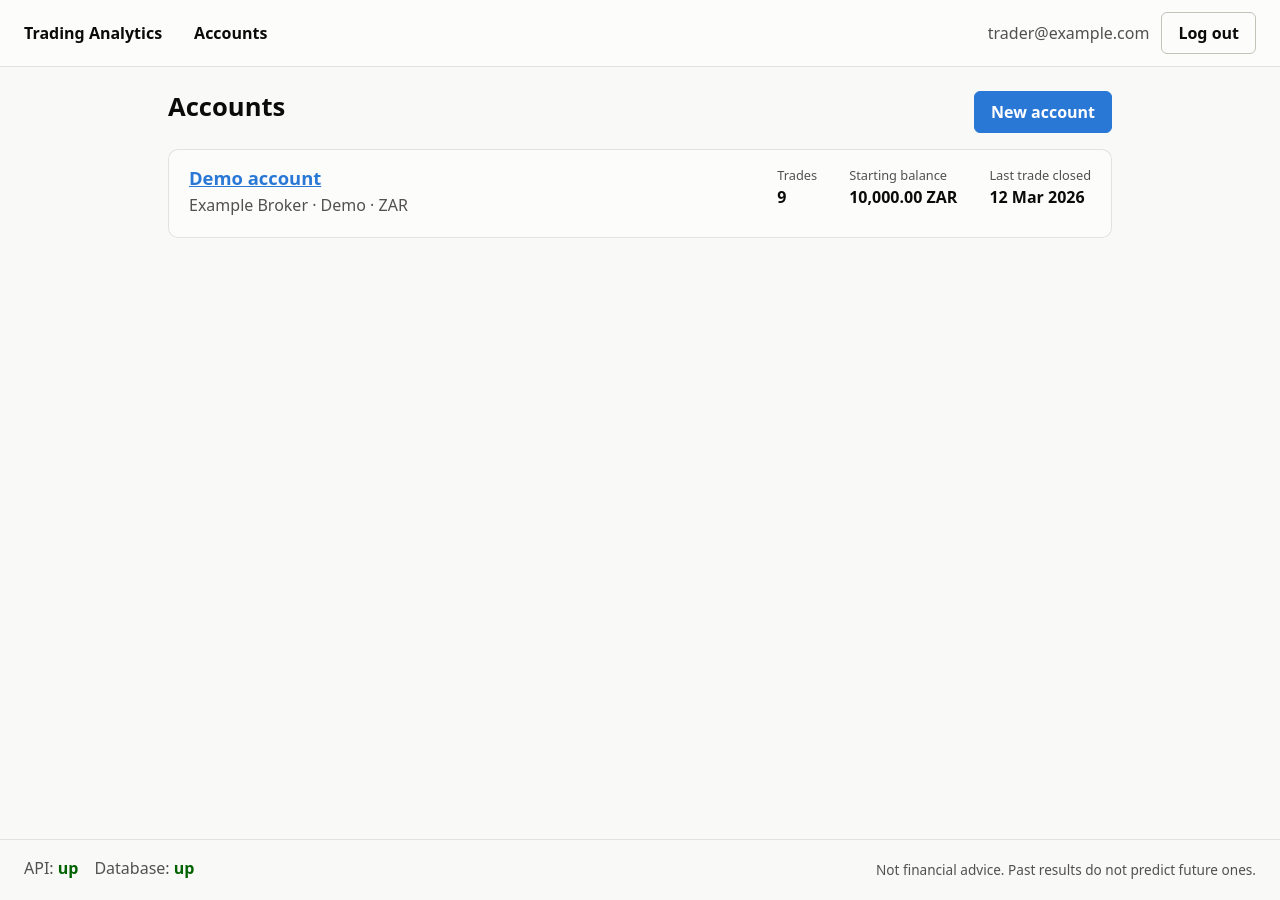
Test case: accounts › shows what the API objects to, and keeps what was typed
This screenshot has width=1280, height=900.
Click the button "New account" at (1043, 112), box [974,91,1112,133]
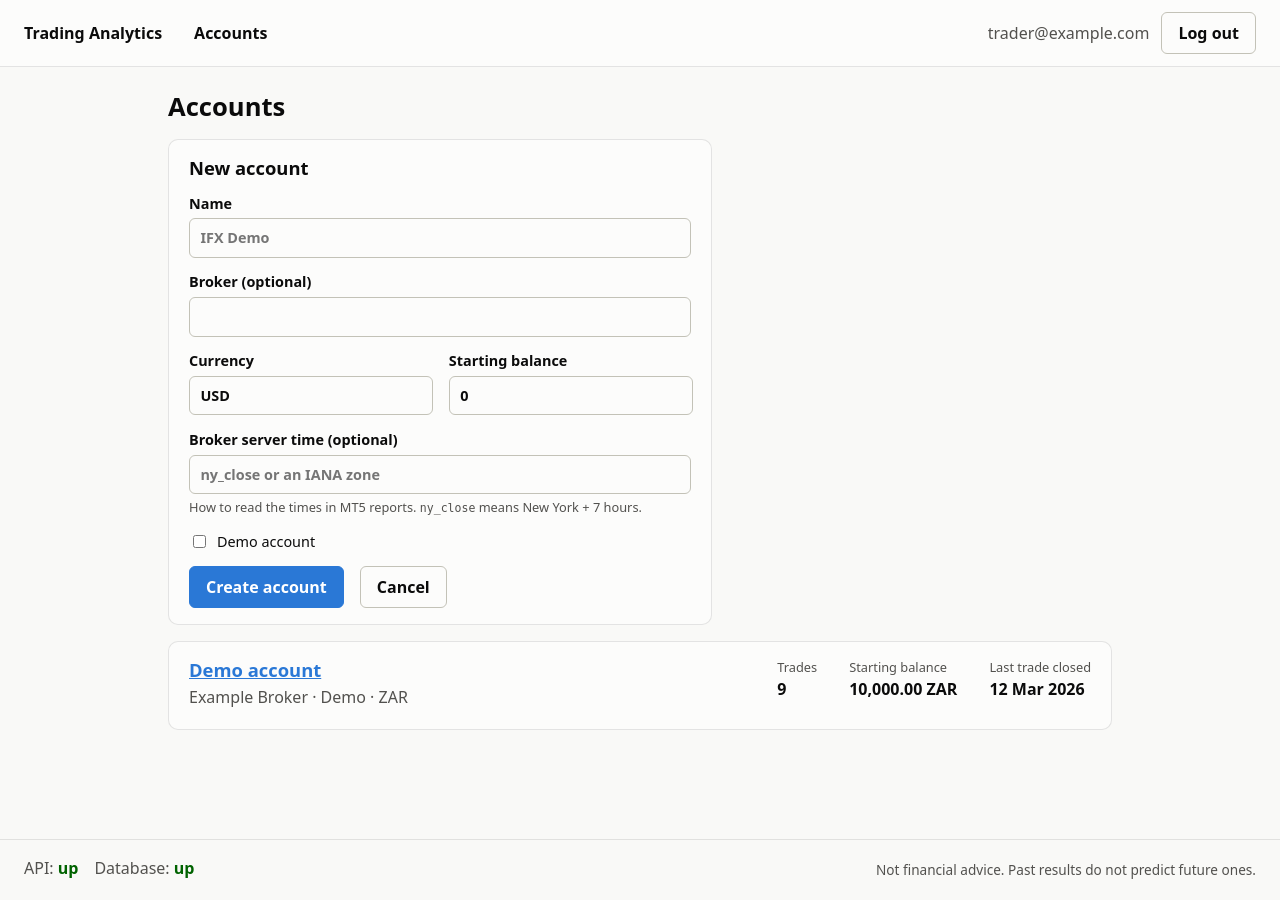
Type "Demo account" into the field labelled "Name" at (440, 238), box [189,218,691,258]
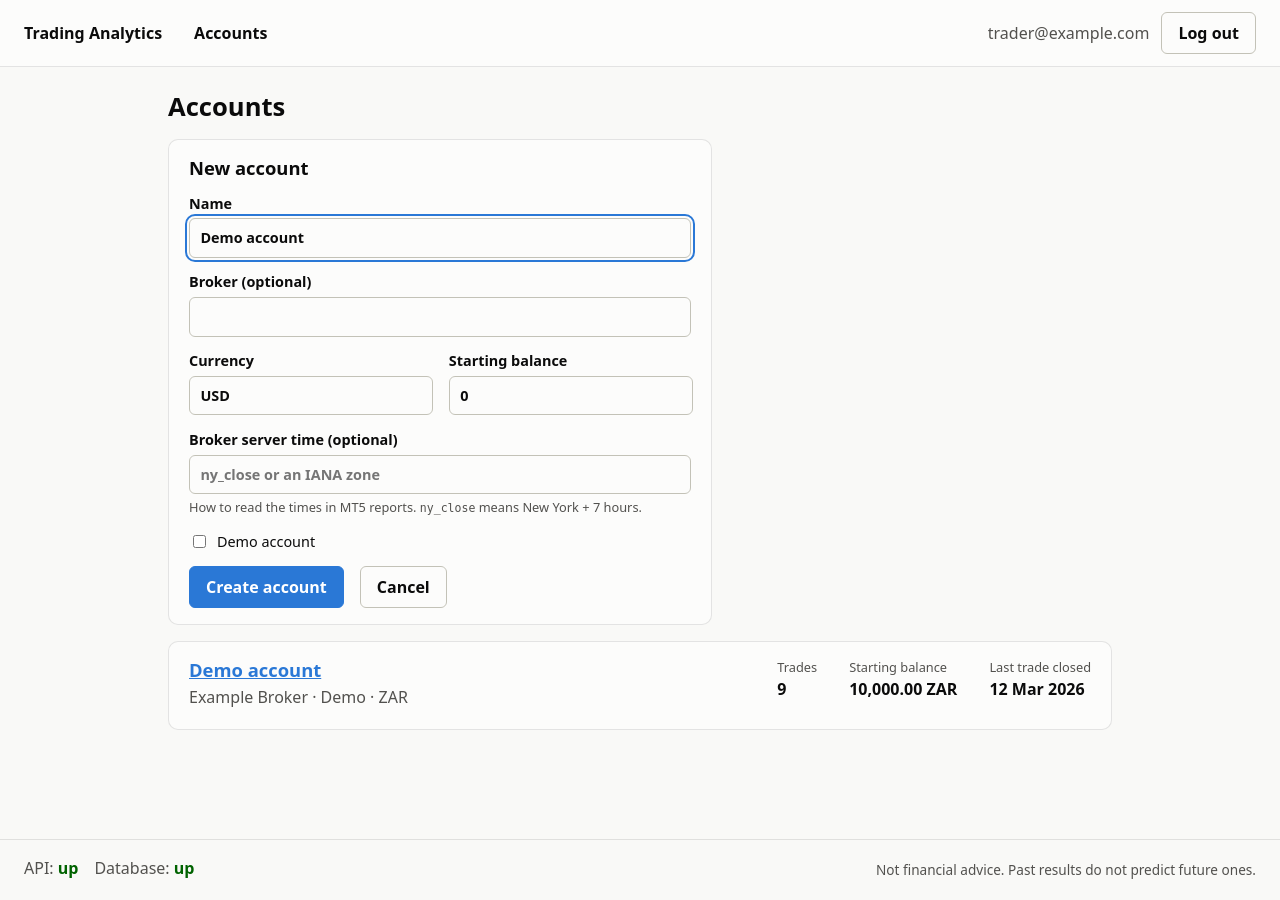
Click the button "Create account" at (266, 587), box [189,566,344,608]
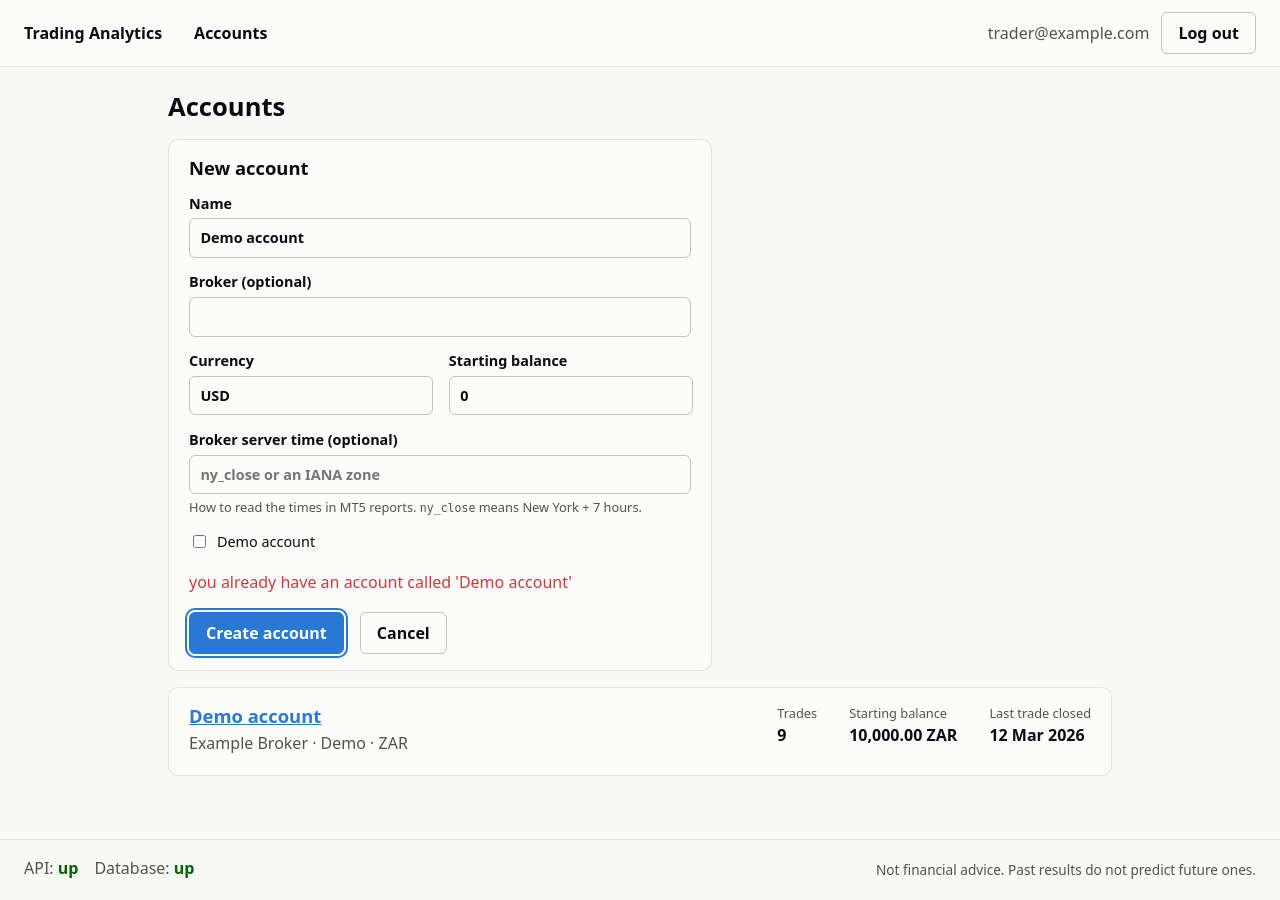
Check: the message shows "you already have an account", box [189,571,572,593]
